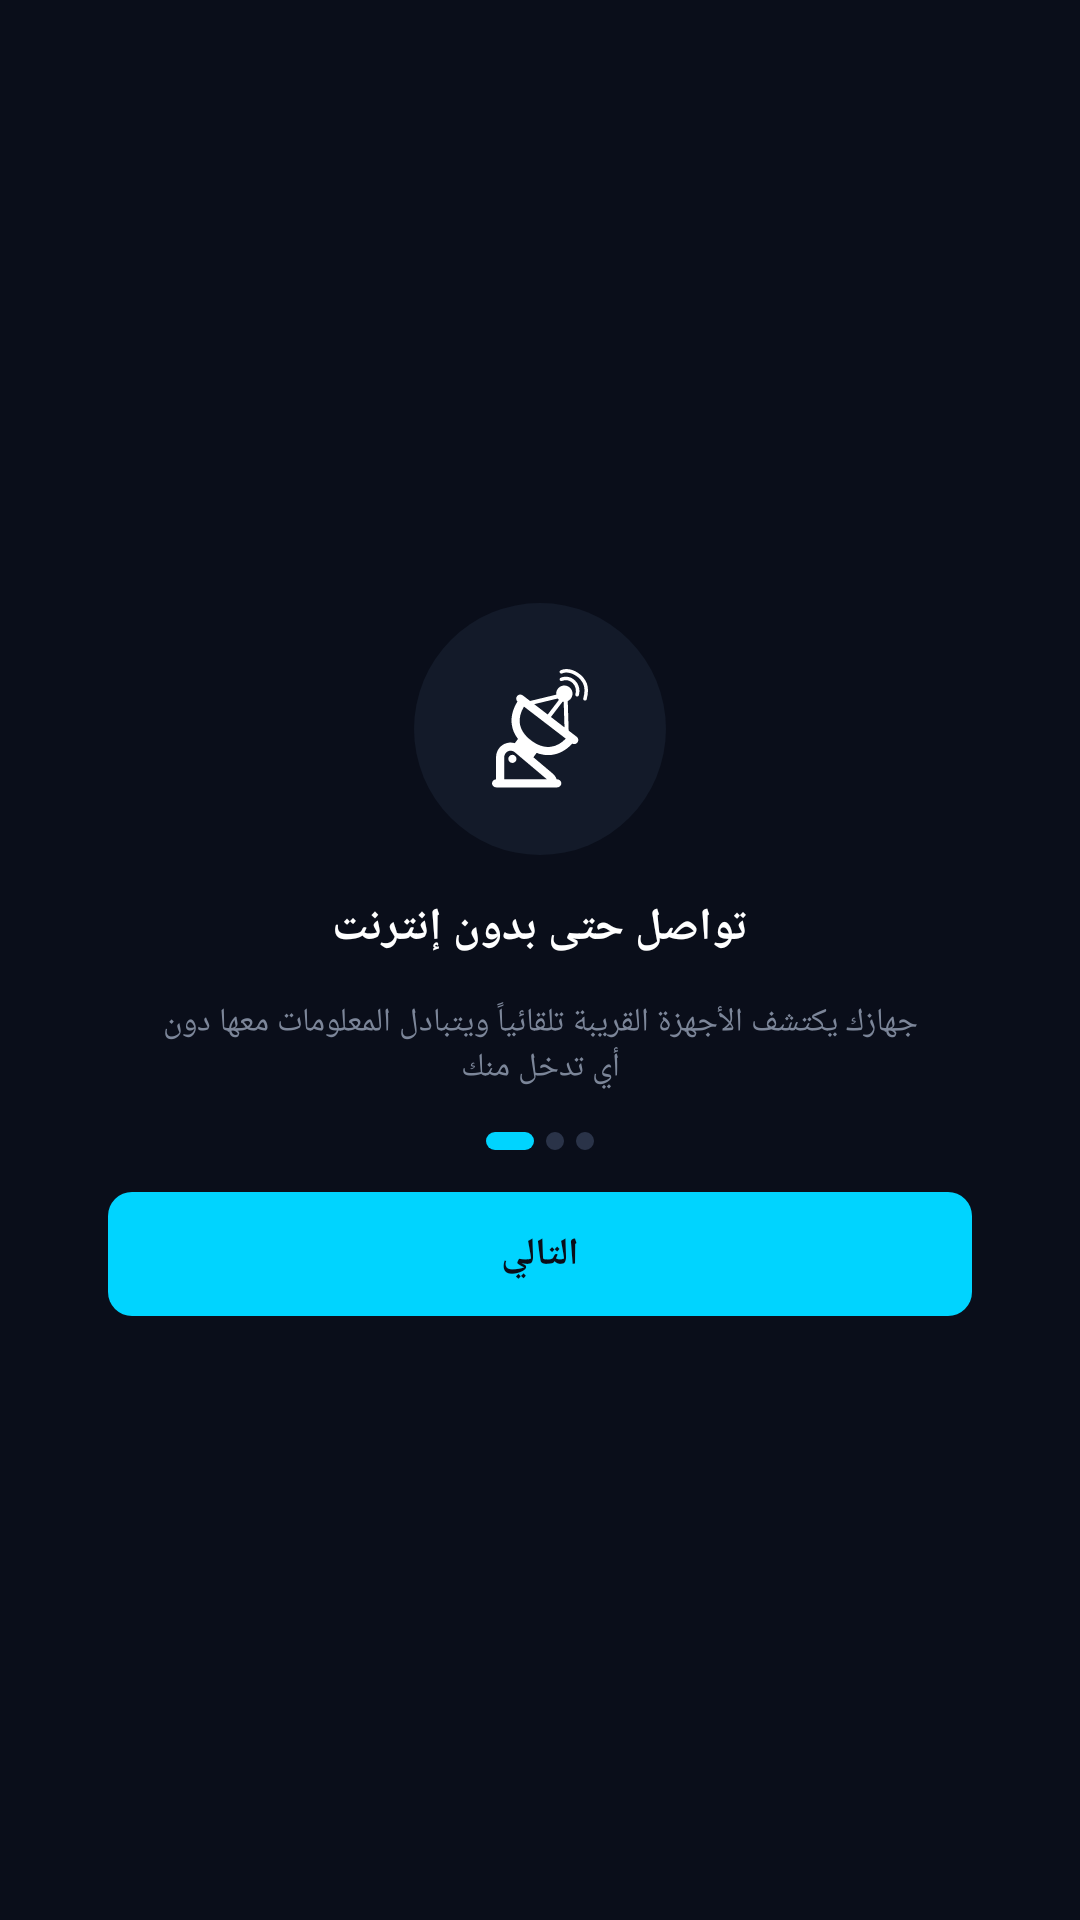

Screen size 1080px×1920px. Icon name, then its center in pixels as (x=x, y=y):
satellite: (x=540, y=728)
